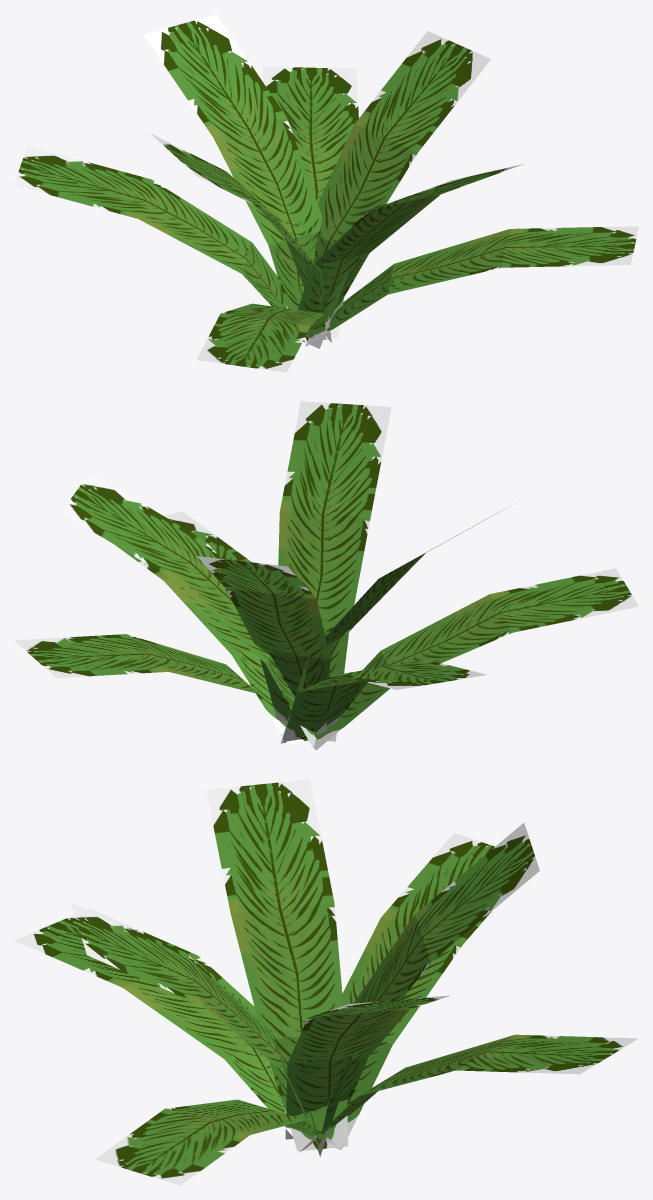
The model's file is Beach_shrub.fbx.
The picture shows the model from 3 angles, top to bottom: view 1: azimuth 30°, elevation 25°; view 2: azimuth 150°, elevation 25°; view 3: azimuth 270°, elevation 25°; orthographic projection. The views are drawn at different scales.
Visible parts, largest first — view 1: Beach_shrub; view 2: Beach_shrub; view 3: Beach_shrub.
Part boxes in pixels (x1,y1,x2,y2): Beach_shrub: (14, 14, 638, 372); Beach_shrub: (14, 401, 638, 750); Beach_shrub: (14, 779, 638, 1185).
Size of the model in its own units: 4.34 by 2.1 by 4.22.
